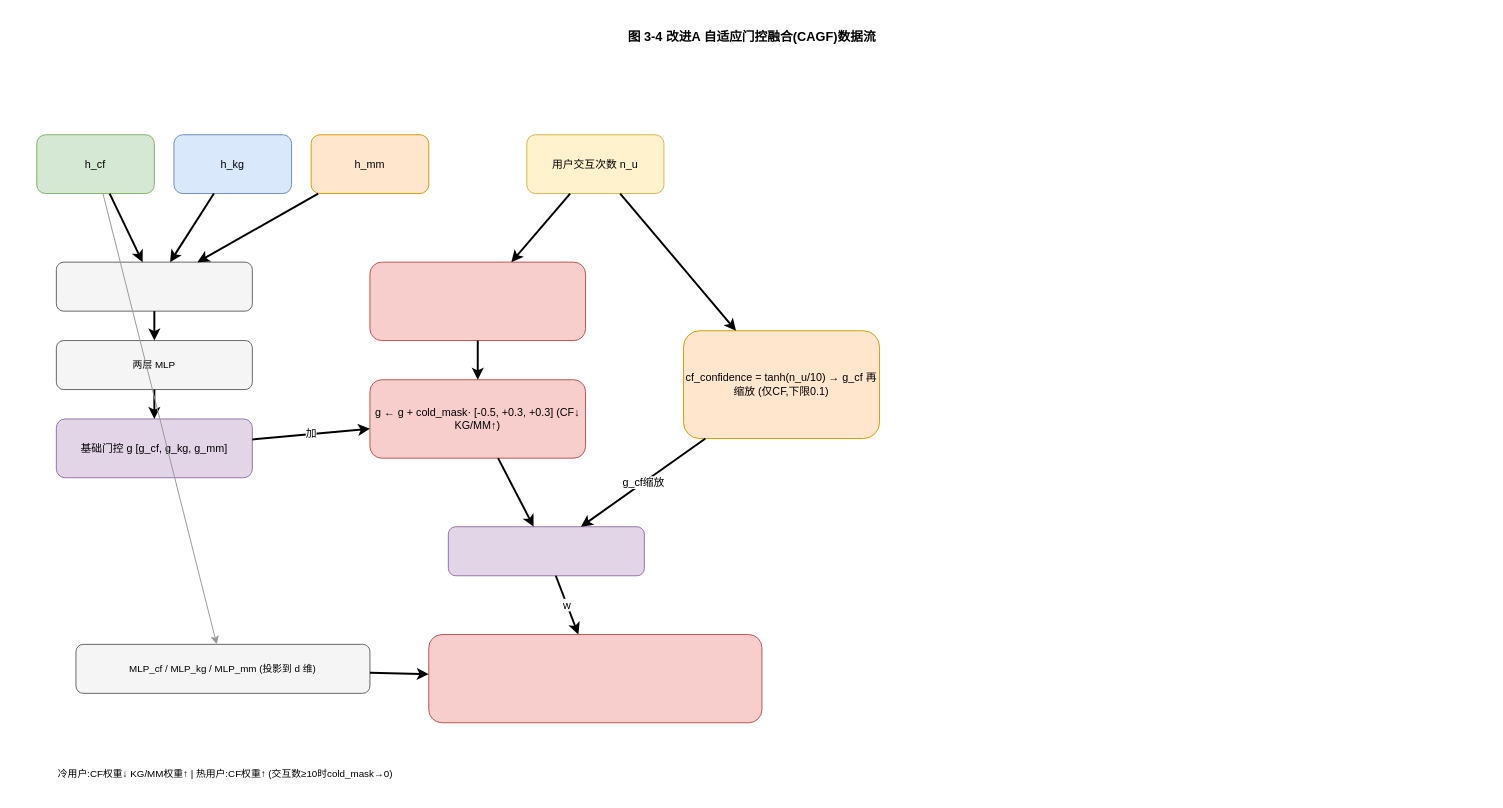
The diagram is 1503 pixels wide and 808 high, and some of its shapes have lost their labels. Each missing label, with the box of its shape:
cold_mask = 1 - clip(n_u/10,0,1) (冷→1, 热→0): (369, 261, 586, 341)
h_fused = w_cf·MLP_cf(h_cf) + w_kg·MLP_kg(h_kg) + w_mm·MLP_mm(h_mm): (428, 634, 762, 723)
softmax → 权重 w: (447, 526, 644, 576)
三路拼接: (55, 261, 252, 311)
